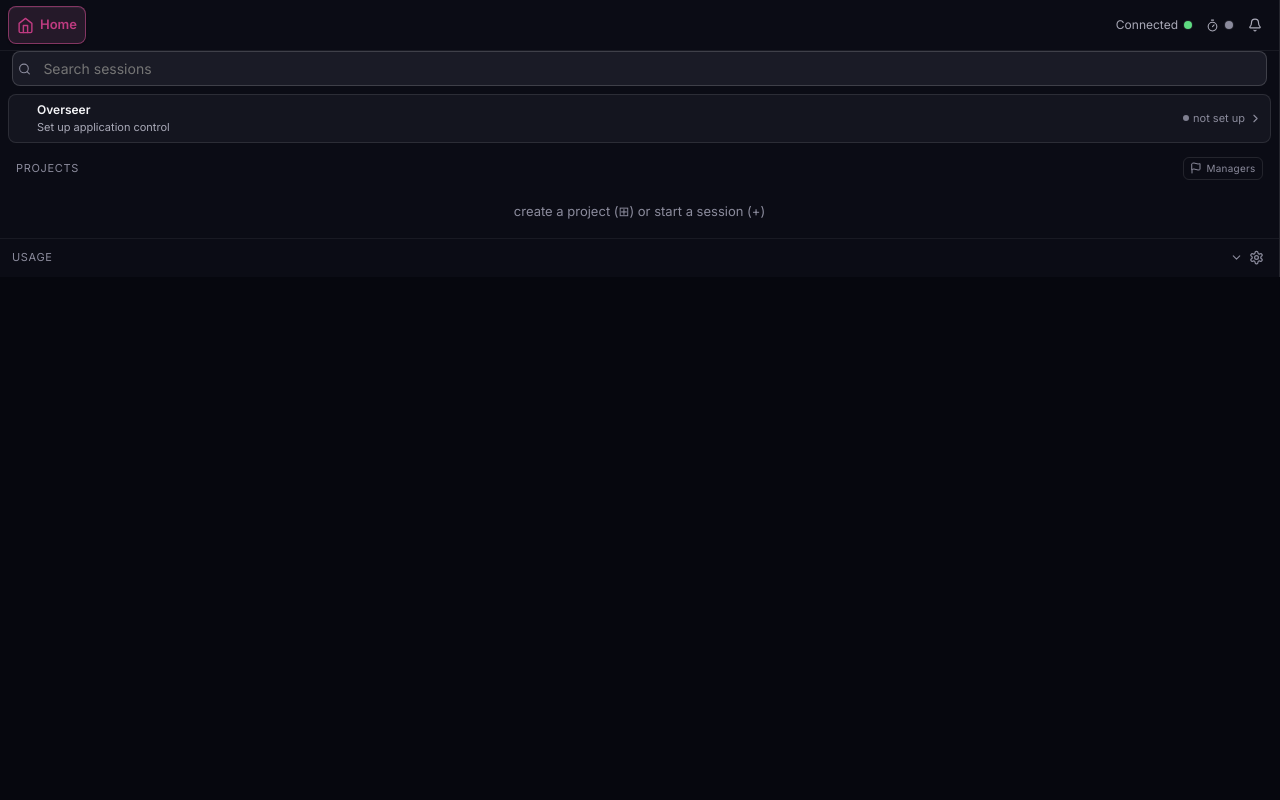
Test: compact system status indicators › keeps journal status inspectable when no operation has run
The image size is (1280, 800).
Click the button named "Journal maintenance: idle": (1219, 25) [1203,11,1235,39]
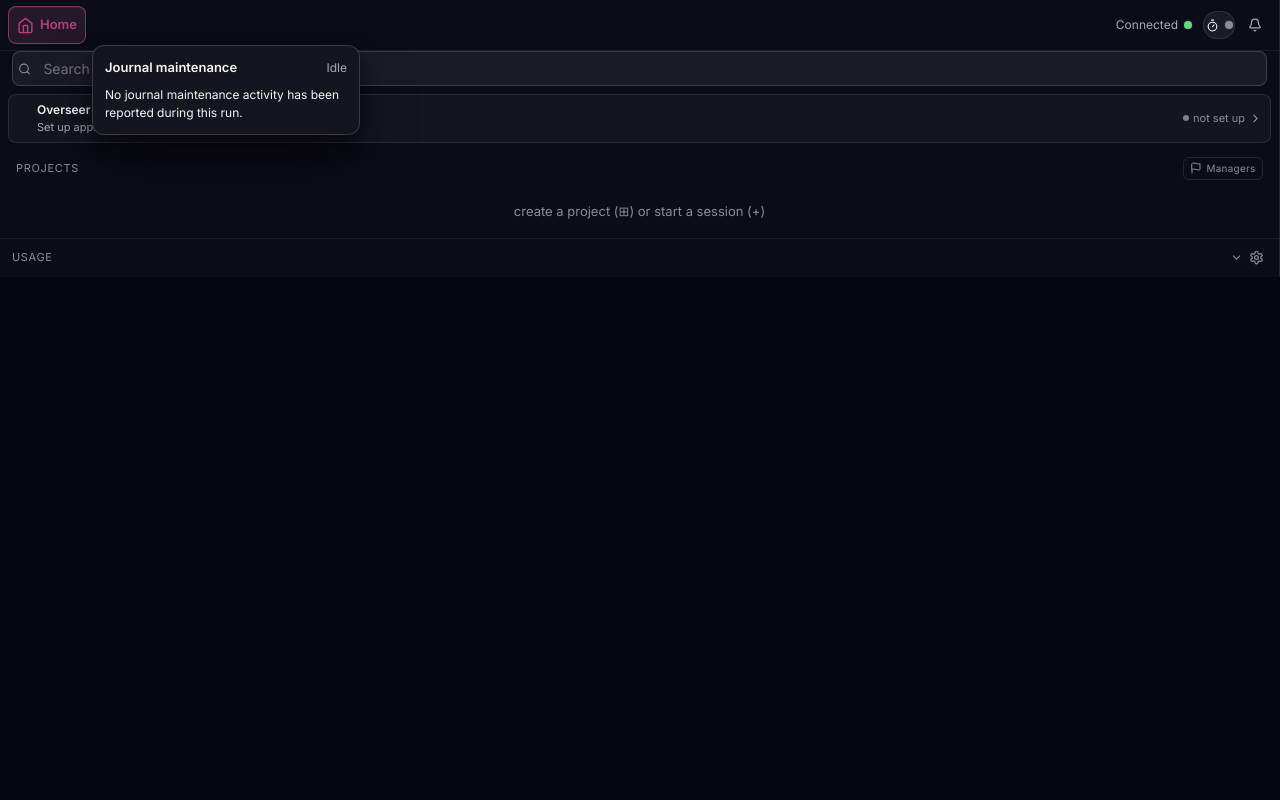
Check: the dialog "Journal maintenance" shows "No journal maintenance activity has been reported during this run.", box [105,86,339,120]
